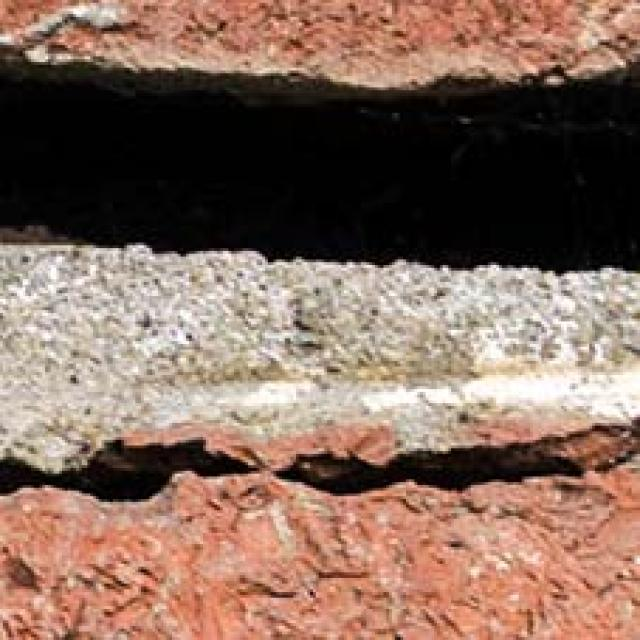Crack: (0, 15, 640, 335), (4, 379, 640, 577)
